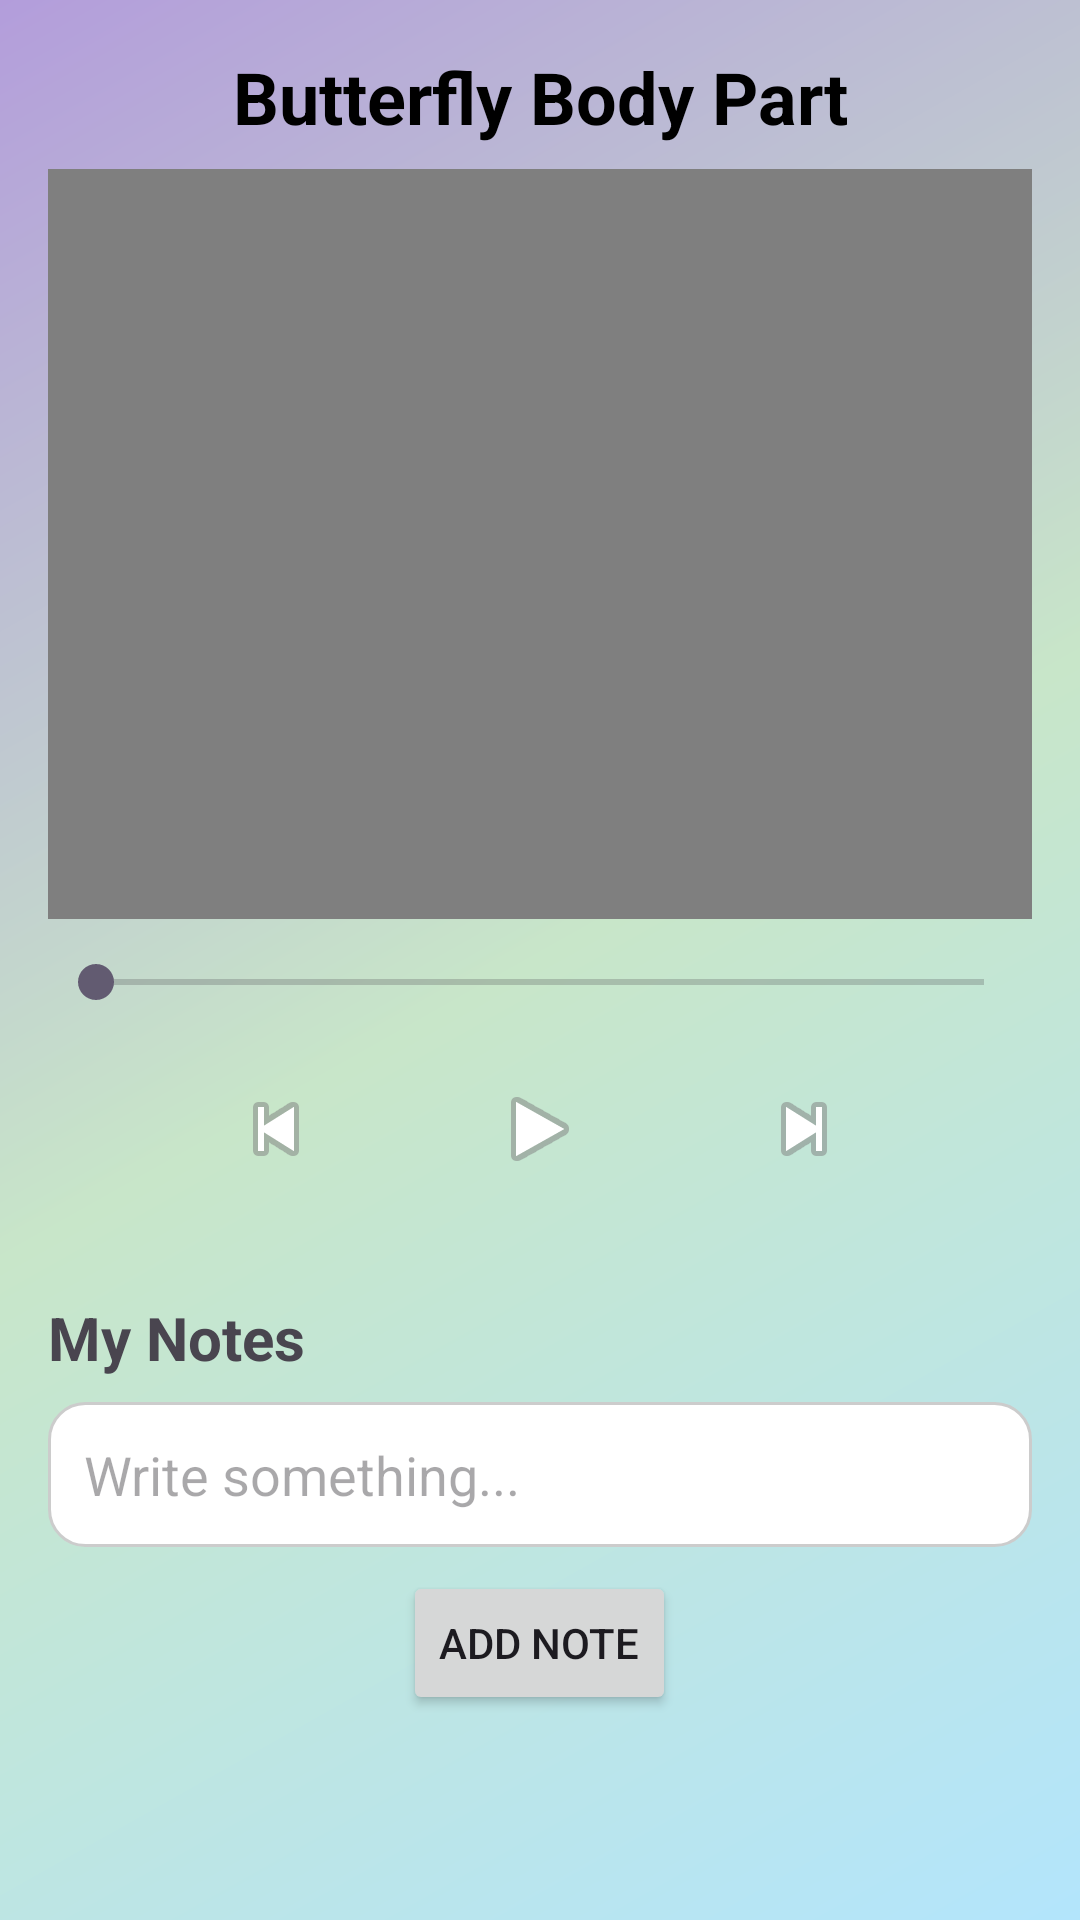

Locate icon controls on the screen. Image size 1080×1920, boxes as (x1, y1, x2, y2).
Play/Pause: (511, 1097, 569, 1161)
